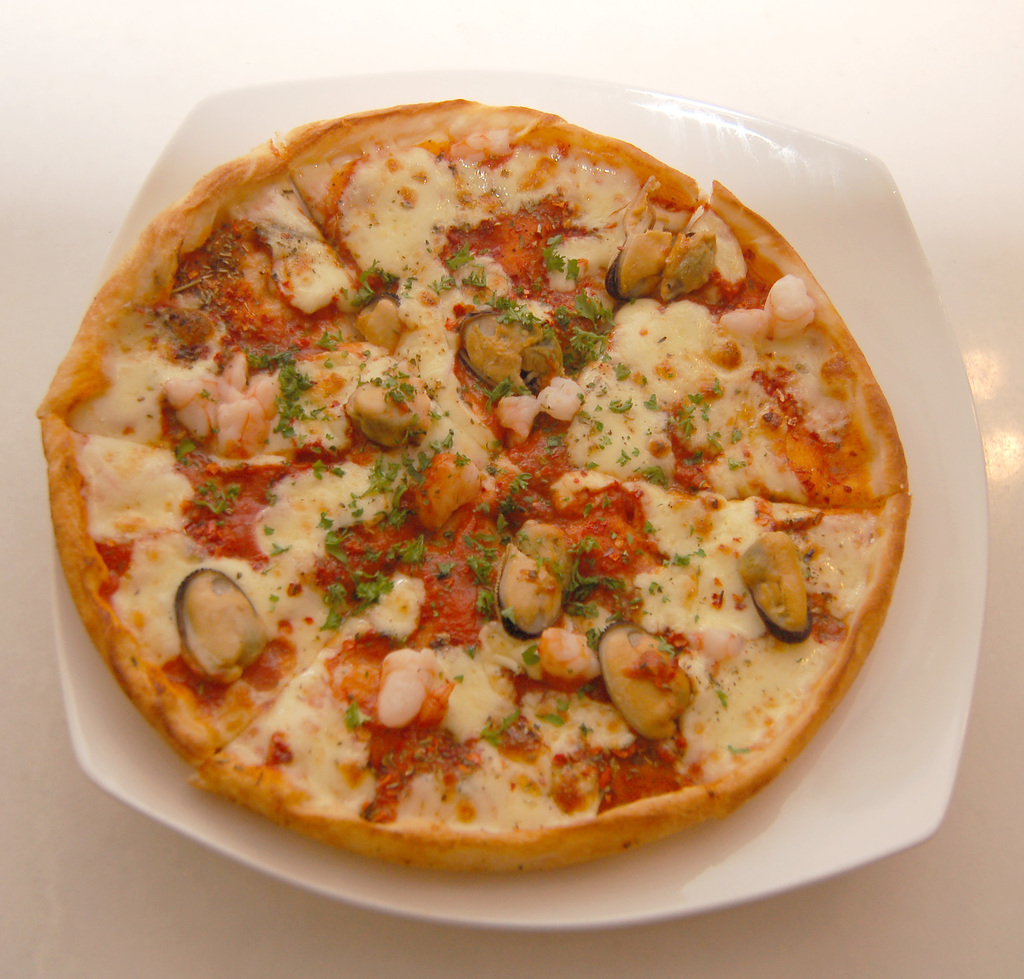Pizza: (38, 88, 919, 873)
